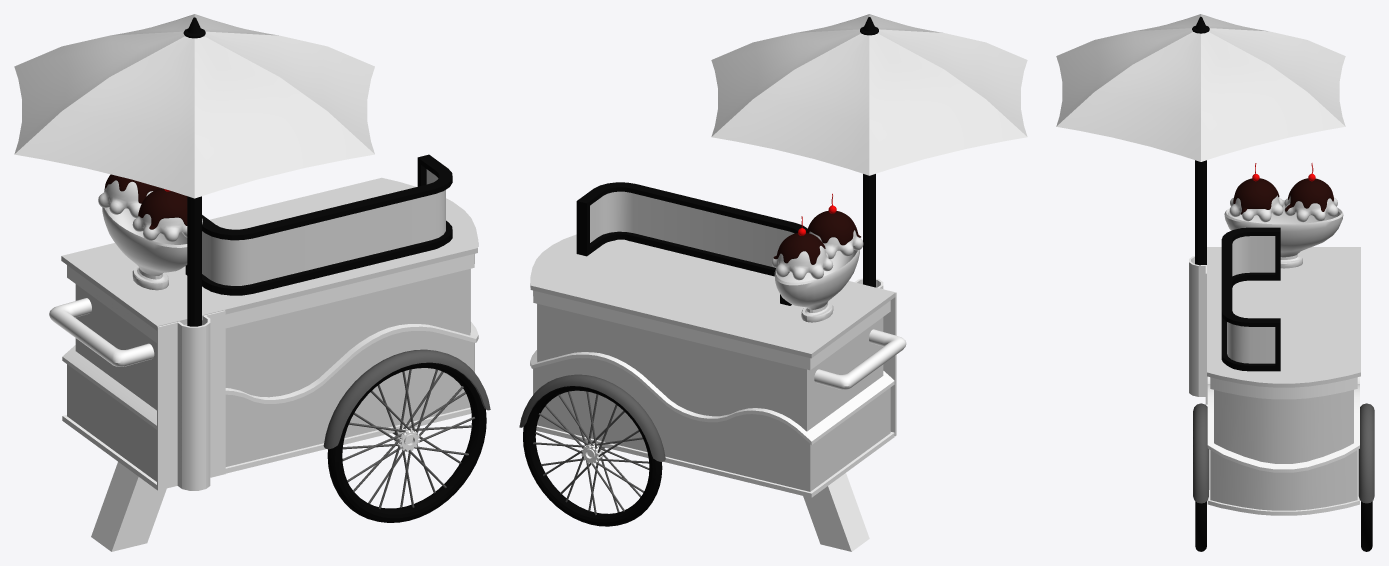
The model's file is A Frosty Vendor 2.fbx.
3 renders of one model, left to right at view 1: azimuth 30°, elevation 25°; view 2: azimuth 150°, elevation 25°; view 3: azimuth 270°, elevation 25°, orthographic. The views are drawn at different scales.
Parts seen in each view (by area): view 1: Ice Cream Cart, Ice Cream; view 2: Ice Cream Cart, Ice Cream; view 3: Ice Cream Cart, Ice Cream.
Boxes of the visible parts, left/top/right/bottom form: Ice Cream Cart: left=14, top=14, right=490, bottom=551; Ice Cream: left=98, top=174, right=202, bottom=290; Ice Cream Cart: left=519, top=14, right=1027, bottom=551; Ice Cream: left=771, top=193, right=863, bottom=322; Ice Cream Cart: left=1056, top=14, right=1374, bottom=551; Ice Cream: left=1224, top=163, right=1343, bottom=268.
Bounding box in the file's own units: 247 × 264 × 171.
